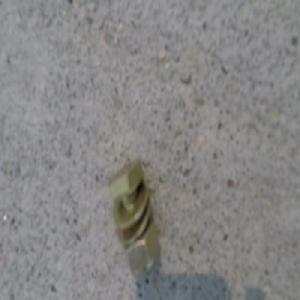BoltNutSet: (110, 161, 160, 270)
